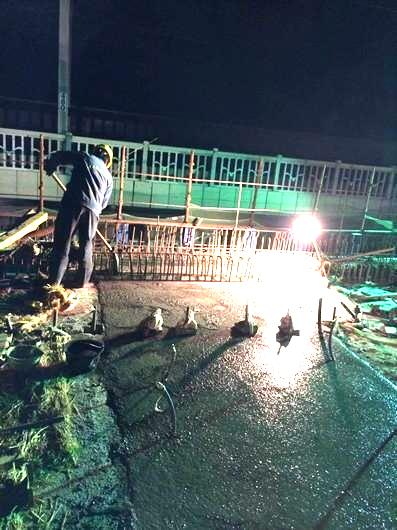helmet: (92, 143, 113, 168)
